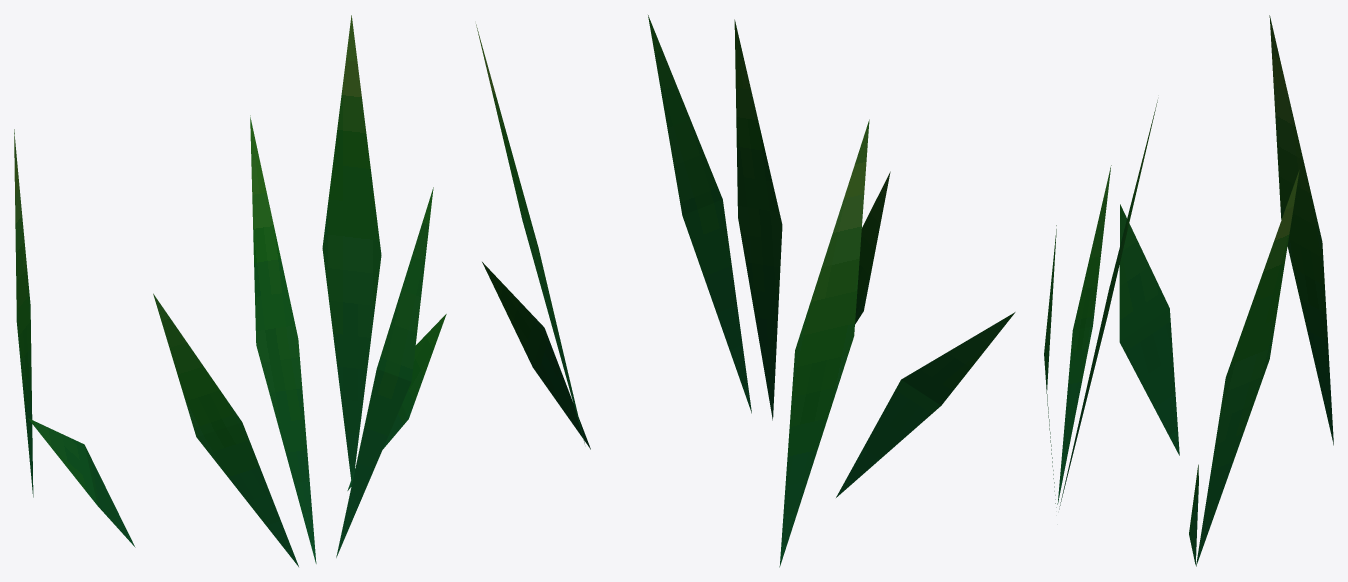
The model's file is plants_me_dlc2_level_grass401.gltf.
The picture shows the model from 3 angles, left to right: view 1: azimuth 30°, elevation 25°; view 2: azimuth 150°, elevation 25°; view 3: azimuth 270°, elevation 25°; orthographic projection. The views are drawn at different scales.
Parts seen in each view (by area): view 1: um_plants_me_dlc2_level_grass401_model_plants_me_dlc2_level_; view 2: um_plants_me_dlc2_level_grass401_model_plants_me_dlc2_level_; view 3: um_plants_me_dlc2_level_grass401_model_plants_me_dlc2_level_.
Boxes of the visible parts, x1,y1,x2,y2 form: um_plants_me_dlc2_level_grass401_model_plants_me_dlc2_level_: (14, 15, 446, 566); um_plants_me_dlc2_level_grass401_model_plants_me_dlc2_level_: (476, 15, 1015, 567); um_plants_me_dlc2_level_grass401_model_plants_me_dlc2_level_: (1044, 15, 1333, 566).
Bounding box in the file's own units: 0.4592 × 0.4072 × 0.2517.
1 material, 1 textured.
